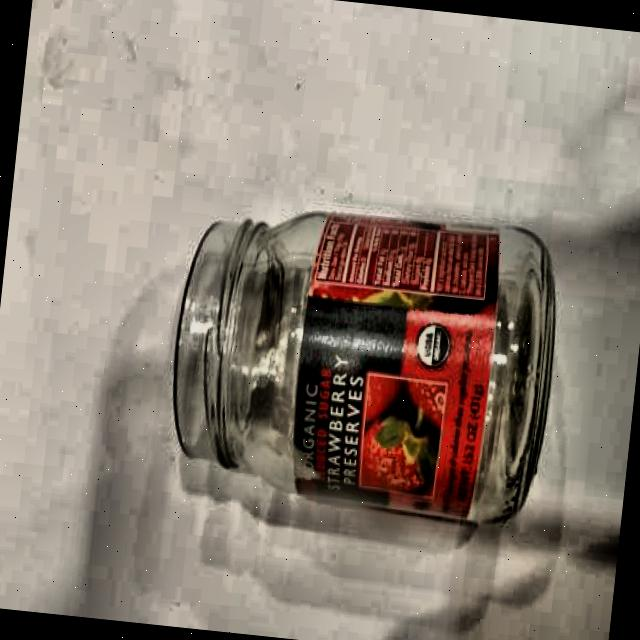glass: (153, 185, 570, 542)
